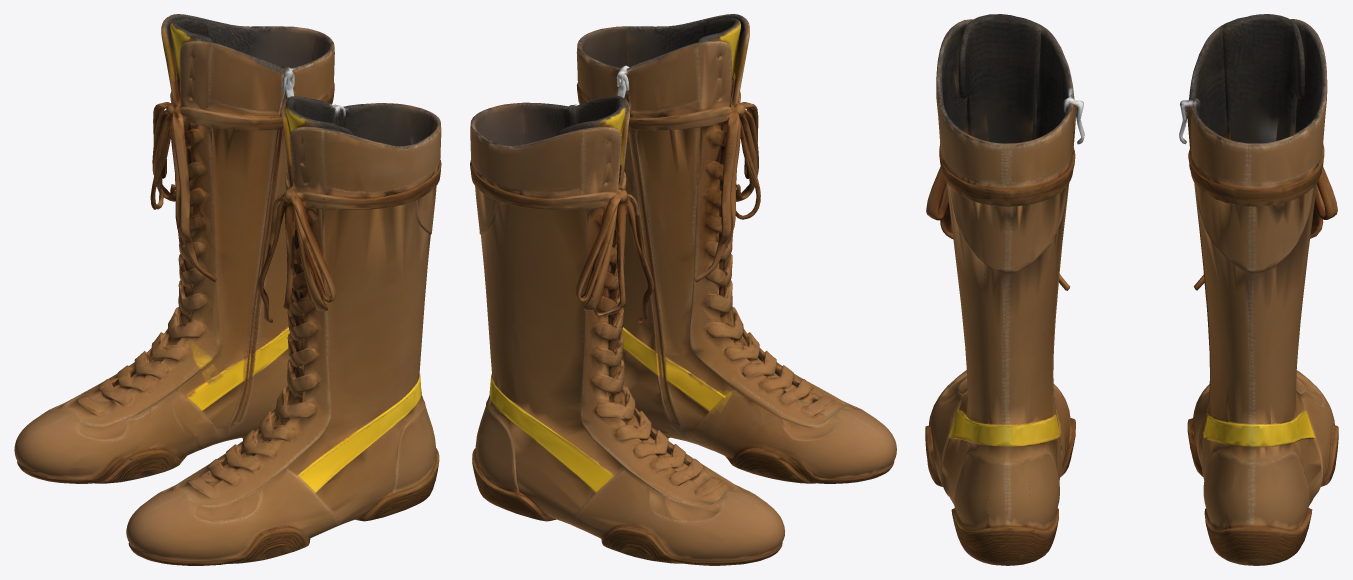
The model's file is FighterBoots.glb.
3 renders of one model, left to right at view 1: azimuth 30°, elevation 25°; view 2: azimuth 150°, elevation 25°; view 3: azimuth 270°, elevation 25°, orthographic. The views are drawn at different scales.
Parts seen in each view (by area): view 1: node_0; view 2: node_0; view 3: node_0.
Part boxes in pixels (<box>): node_0: <box>14,14,441,565</box>; node_0: <box>470,14,896,565</box>; node_0: <box>925,14,1338,565</box>.
Bounding box in the file's own units: 0.6945 × 0.8912 × 0.6983.
Materials: 1 (1 with a texture image).
